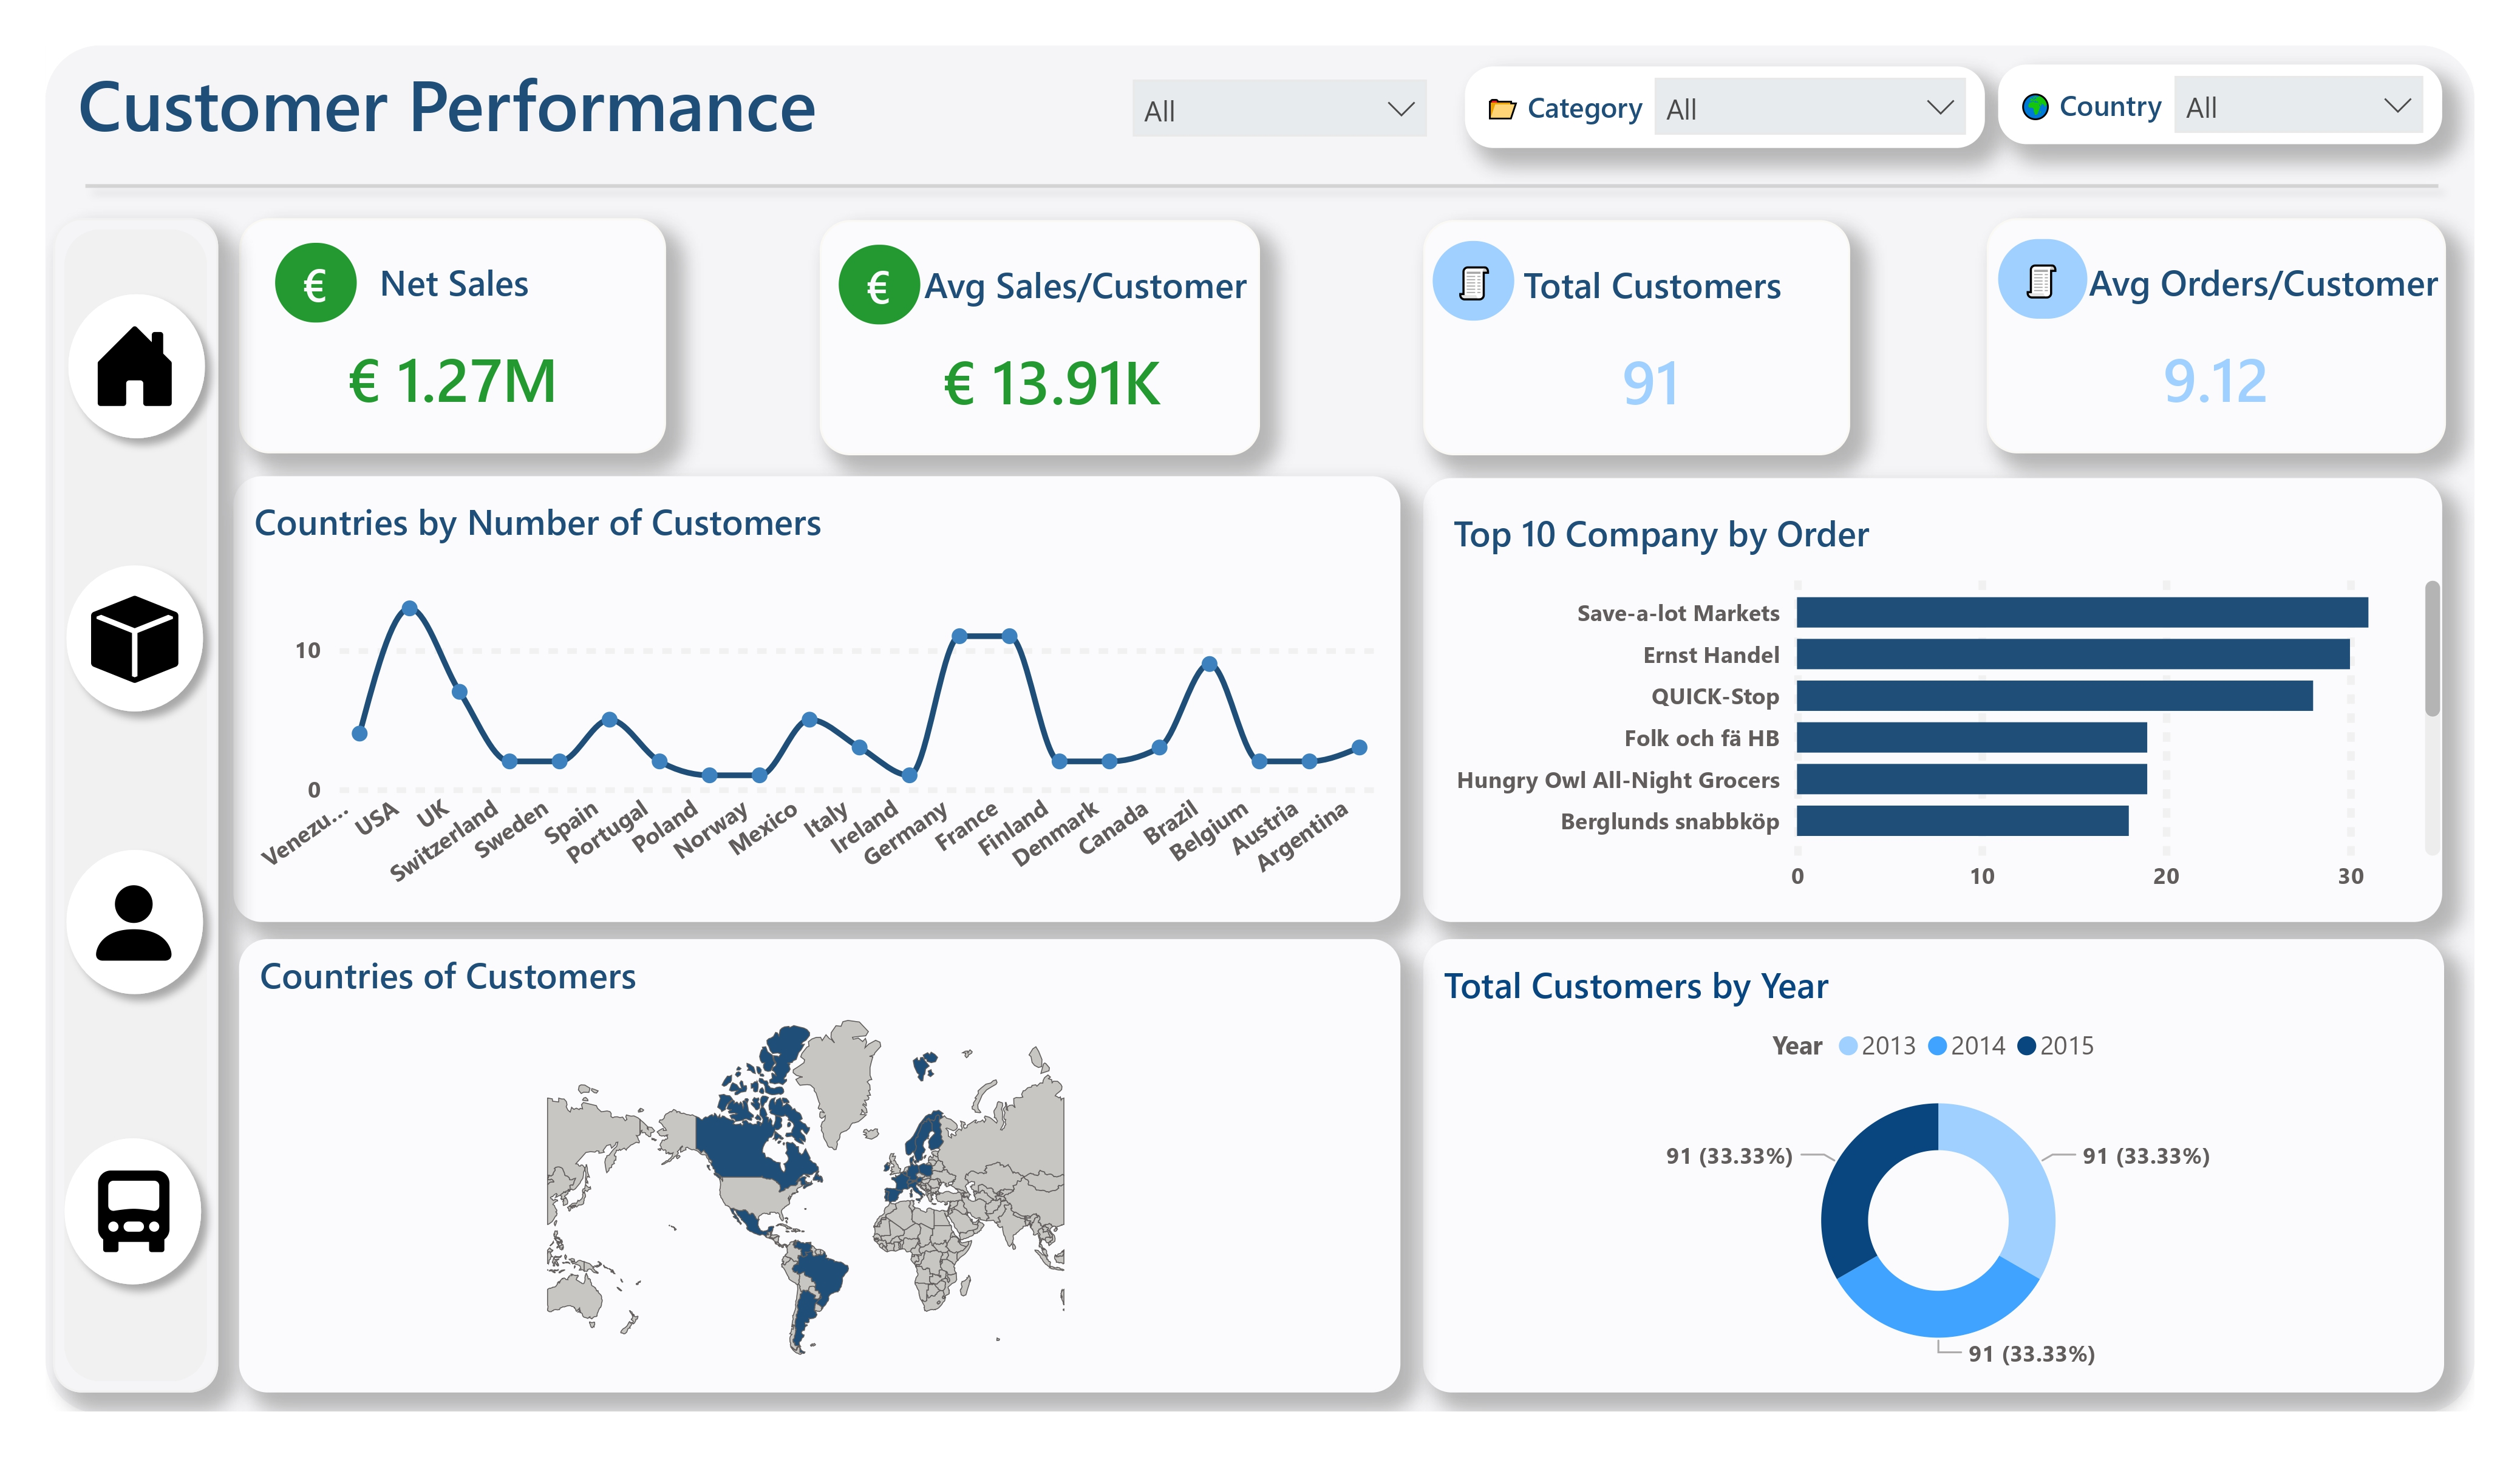

This screenshot's page, from the dashboard's own definition file:
{"tool":"powerbi","page":{"name":"Customer Performance","canvas":[1280,720],"ordinal":2},"visuals":[{"type":"textbox","box":[503.8,11.8,234,41.9],"z":0},{"type":"shape","box":[1028.9,101.4,46.7,41.8],"z":0,"group":"g9"},{"type":"shape","box":[731.2,103,43.3,41.7],"z":0,"group":"g10"},{"type":"shape","box":[121.1,104.4,43.3,41.7],"z":0,"group":"g2"},{"type":"shape","box":[418.3,106.1,43.3,41.7],"z":0,"group":"g3"},{"type":"shape","box":[0,0,1280,720.6],"z":1000},{"type":"textbox","box":[129.9,104.1,40,42.1],"z":1000,"group":"g2"},{"type":"textbox","box":[427.1,105.8,40,42.1],"z":1000,"group":"g3"},{"type":"textbox","box":[1036.6,107.1,39,44],"z":1000,"group":"g9"},{"type":"textbox","box":[738.3,108.7,36.2,43.8],"z":1000,"group":"g10"},{"type":"textbox","box":[748.5,10.8,273.1,43.1],"z":2000},{"type":"textbox","box":[1029.2,10,234,42.5],"z":3000},{"type":"slicer","title":"📅 Year","fields":{"Values":["Date.Year"]},"box":[562.9,7.7,175,42.8],"z":4000},{"type":"slicer","title":"📅 Year","fields":{"Values":["products.Category"]},"box":[838.1,7.2,184.3,41.8],"z":5000},{"type":"textbox","box":[11.8,0,419.9,58.8],"z":6000},{"type":"slicer","title":"📅 Year","fields":{"Values":["products.productName"]},"box":[1112.3,5.8,151.2,44.6],"z":7000},{"type":"cardVisual","title":"Avg Orders/Customer","fields":{"Data":["Measure.Avg Orders per Customer"]},"box":[1023,90.7,241.9,124.3],"z":7000,"group":"g1"},{"type":"cardVisual","title":"Total Customers","fields":{"Data":["Measure.Total Customers"]},"box":[725.7,92.4,224.6,123.8],"z":7000,"group":"g5"},{"type":"shape","box":[11.8,59.4,1258.2,30],"z":8000},{"type":"cardVisual","title":"Net Sales","fields":{"Data":["Measure.Net Sales"]},"box":[102.5,90.7,224.6,123.8],"z":8000,"group":"g4"},{"type":"cardVisual","title":"Avg Sales/Customer","fields":{"Data":["Measure.Avg Sales per Customer"]},"box":[408.2,92.4,231.8,124.3],"z":8000,"group":"g6"},{"type":"group","id":"g1","title":"Group 10","box":[1023,90.7,241.9,124.3],"z":9000},{"type":"group","id":"g2","title":"Group 5","box":[121.1,104.1,48.5,42.3],"z":9000,"group":"g4"},{"type":"group","id":"g3","title":"Group 5","box":[418.3,105.8,47,43.7],"z":9000,"group":"g6"},{"type":"group","id":"g4","title":"Group 6","box":[102.5,90.7,223.4,124.3],"z":10000},{"type":"group","id":"g5","title":"Group 7","box":[725.7,92.4,225.1,124.3],"z":11000},{"type":"group","id":"g6","title":"Group 4","box":[408.2,92.4,231.8,124.3],"z":12000},{"type":"group","id":"g7","title":"Group 8","box":[1028.9,101.4,46.7,49.4],"z":12000,"group":"g1"},{"type":"group","id":"g8","title":"Group 8","box":[731.2,103,43.3,49.2],"z":12000,"group":"g5"},{"type":"group","id":"g9","title":"Group 9","box":[1028.9,101.4,46.7,49.4],"z":12001,"group":"g7"},{"type":"group","id":"g10","title":"Group 9","box":[731.2,103,43.3,49.2],"z":12001,"group":"g8"},{"type":"clusteredBarChart","title":"Top 10 Company by Order","fields":{"Category":["customers.companyName"],"Y":["Measure.Total Orders"]},"box":[725.7,228.5,537.5,233.5],"z":13000},{"type":"lineChart","title":"Countries by Number of Customers","fields":{"Category":["customers.country"],"Y":["Measure.Total Customers"]},"box":[99.1,226.8,614.8,235.2],"z":14000},{"type":"donutChart","fields":{"Category":["Date.Year"],"Y":["Measure.Total Customers"]},"box":[725.8,470.9,538.6,239],"z":15000},{"type":"shape","box":[4.3,90.7,86.4,619.2],"z":16000},{"type":"shape","box":[3,122,90,94],"z":17000},{"type":"image","box":[22.7,140,48.2,57.3],"z":18000},{"type":"shape","box":[1.8,265.5,90,94.5],"z":19000},{"type":"image","box":[23.6,276.4,46.4,72.7],"z":20000},{"type":"shape","box":[1.8,414.5,90,94.5],"z":21000},{"type":"image","box":[20,433.6,52.7,56.4],"z":22000},{"type":"shape","box":[0.9,567.3,90,94.5],"z":23000},{"type":"image","box":[25.5,580.9,42.7,67.3],"z":24000},{"type":"shapeMap","title":"Countries of Customers","fields":{"Category":["customers.country"]},"box":[102.2,470.9,612,239],"z":25000}]}

Visuals, with their boxes on the page's 1280x720 design canvas (x1, y1, x2, y2). These are canvas units, not pixel positions in the 2520x1457 screenshot, which may show the page scaled, cropped or inside an application window:
textbox: region(504, 12, 738, 54)
shape: region(1029, 101, 1076, 143)
shape: region(731, 103, 774, 145)
shape: region(121, 104, 164, 146)
shape: region(418, 106, 462, 148)
shape: region(0, 0, 1280, 721)
textbox: region(130, 104, 170, 146)
textbox: region(427, 106, 467, 148)
textbox: region(1037, 107, 1076, 151)
textbox: region(738, 109, 774, 152)
textbox: region(748, 11, 1022, 54)
textbox: region(1029, 10, 1263, 52)
"📅 Year" slicer: region(563, 8, 738, 50)
"📅 Year" slicer: region(838, 7, 1022, 49)
textbox: region(12, 0, 432, 59)
"📅 Year" slicer: region(1112, 6, 1264, 50)
"Avg Orders/Customer" cardVisual: region(1023, 91, 1265, 215)
"Total Customers" cardVisual: region(726, 92, 950, 216)
shape: region(12, 59, 1270, 89)
"Net Sales" cardVisual: region(102, 91, 327, 214)
"Avg Sales/Customer" cardVisual: region(408, 92, 640, 217)
"Group 10" group: region(1023, 91, 1265, 215)
"Group 5" group: region(121, 104, 170, 146)
"Group 5" group: region(418, 106, 465, 150)
"Group 6" group: region(102, 91, 326, 215)
"Group 7" group: region(726, 92, 951, 217)
"Group 4" group: region(408, 92, 640, 217)
"Group 8" group: region(1029, 101, 1076, 151)
"Group 8" group: region(731, 103, 774, 152)
"Group 9" group: region(1029, 101, 1076, 151)
"Group 9" group: region(731, 103, 774, 152)
"Top 10 Company by Order" clusteredBarChart: region(726, 228, 1263, 462)
"Countries by Number of Customers" lineChart: region(99, 227, 714, 462)
donutChart - Date.Year x Measure.Total Customers: region(726, 471, 1264, 710)
shape: region(4, 91, 91, 710)
shape: region(3, 122, 93, 216)
image: region(23, 140, 71, 197)
shape: region(2, 266, 92, 360)
image: region(24, 276, 70, 349)
shape: region(2, 414, 92, 509)
image: region(20, 434, 73, 490)
shape: region(1, 567, 91, 662)
image: region(26, 581, 68, 648)
"Countries of Customers" shapeMap: region(102, 471, 714, 710)
